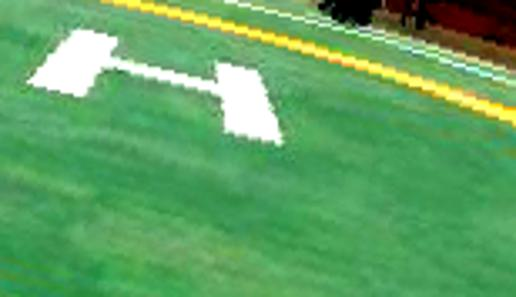Apron: (4, 1, 516, 297)
